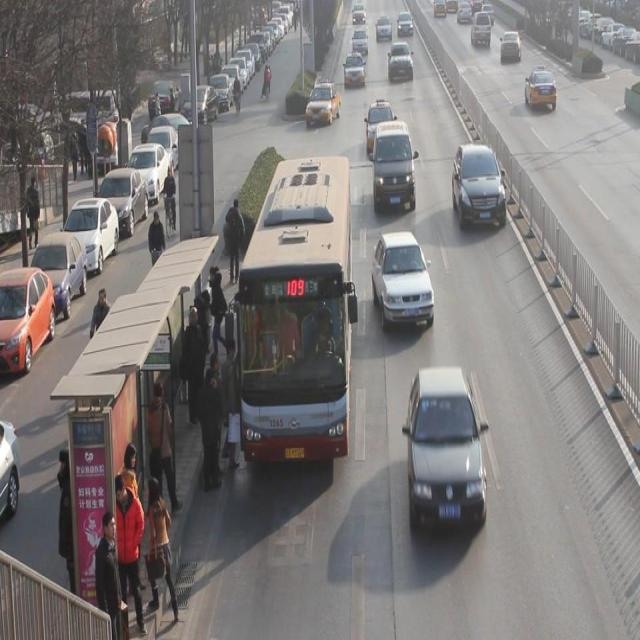car: (407, 367, 487, 531), (370, 231, 434, 330), (452, 142, 507, 230), (366, 99, 396, 156), (306, 81, 341, 128), (524, 63, 557, 111), (388, 41, 413, 82), (344, 52, 364, 88), (501, 30, 522, 61), (352, 27, 368, 56)
truck: (373, 122, 416, 209), (471, 10, 492, 47)
van: (238, 157, 350, 460)
